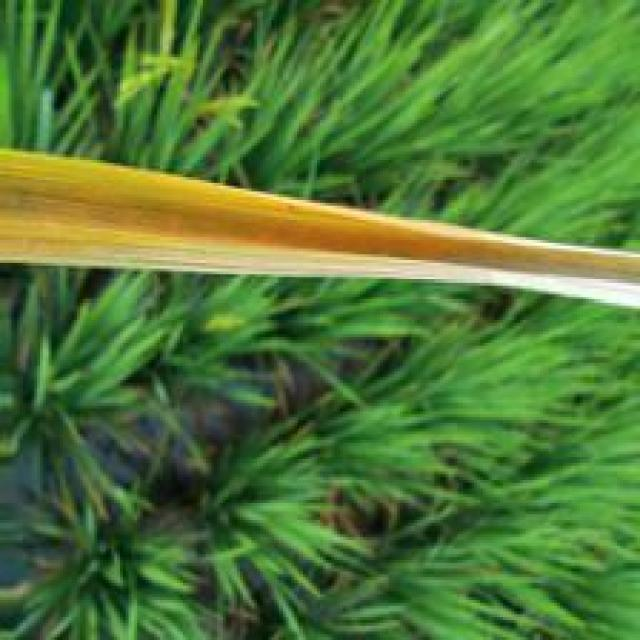Bacterial_Leaf_Blight: (0, 148, 640, 315)
